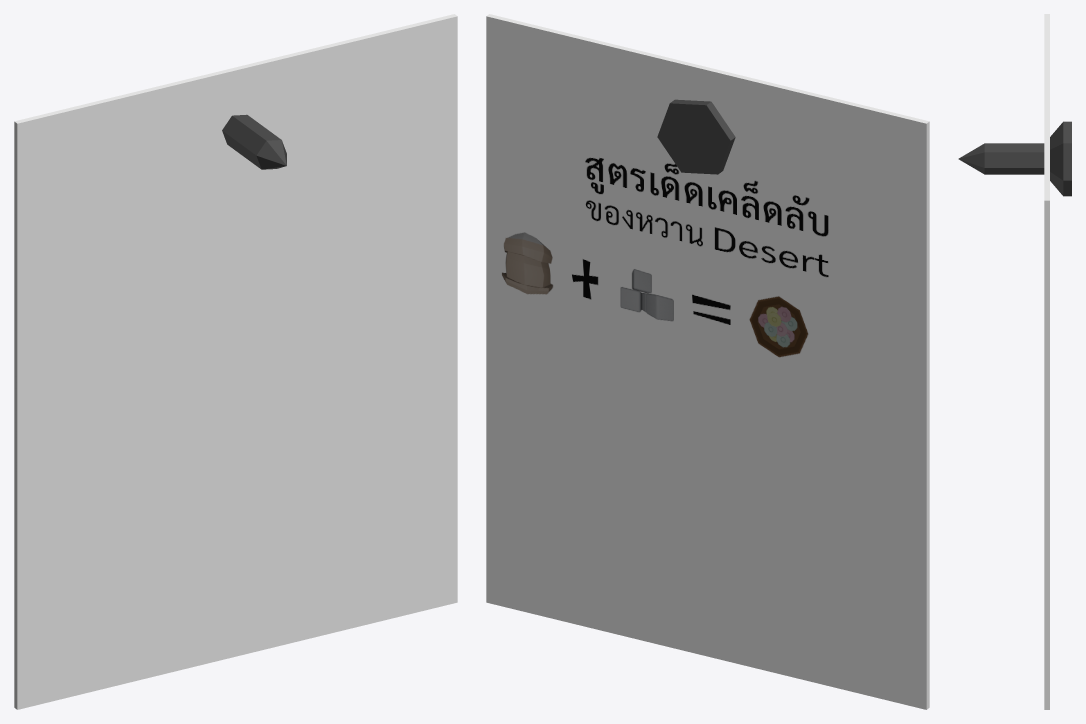
Rendered from DesertRecipe.glb.
The picture shows the model from 3 angles, left to right: view 1: azimuth 30°, elevation 25°; view 2: azimuth 150°, elevation 25°; view 3: azimuth 270°, elevation 25°; orthographic projection. The views are drawn at different scales.
Visible parts, largest first — view 1: Cylinder; view 2: Cylinder; view 3: Cylinder.
Part boxes in pixels (x1,y1,x2,y2): Cylinder: (14,14,457,709); Cylinder: (486,14,929,709); Cylinder: (958,14,1071,709).
Bounding box in the file's own units: 1.57 × 2 × 0.4053.
2 materials, 1 textured.
